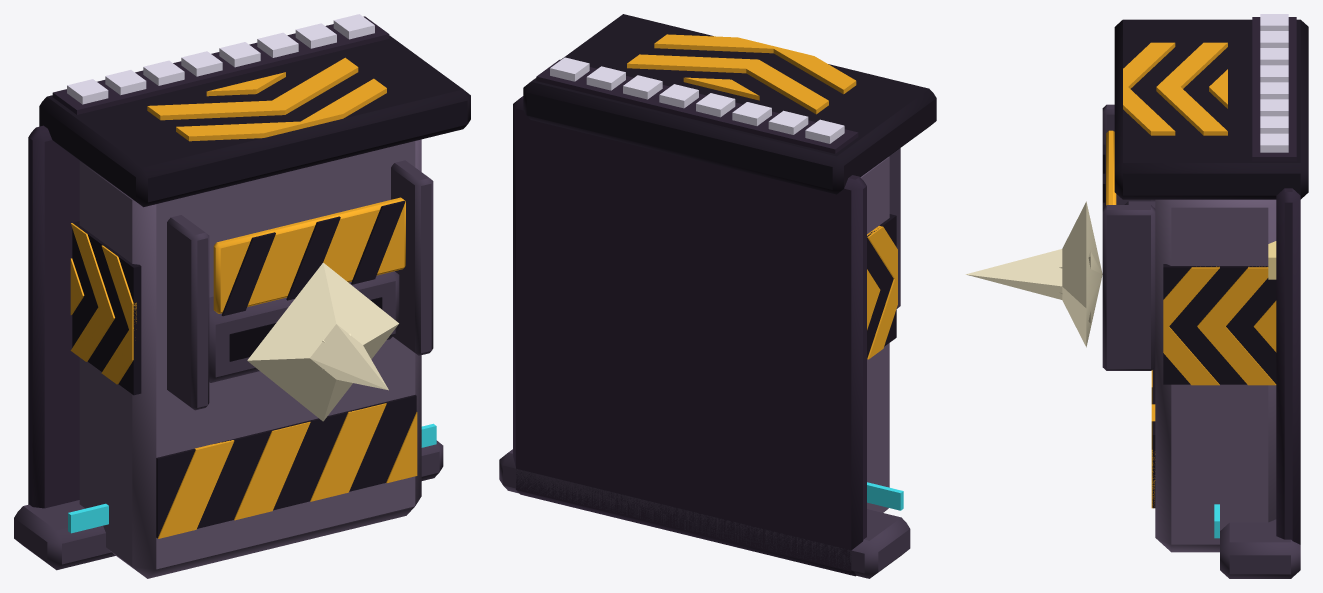
Rendered from trap_dart__lower.glb.
The picture shows the model from 3 angles, left to right: view 1: azimuth 30°, elevation 25°; view 2: azimuth 150°, elevation 25°; view 3: azimuth 270°, elevation 25°; orthographic projection. The views are drawn at different scales.
Parts seen in each view (by area): view 1: Body, Shutter, Flash, Muzzle, Pip_03, Pip_04, Pip_01, Pip_05, Pip_06, Pip_07, Pip_08, Pip_02; view 2: Body, Pip_02, Pip_01, Pip_03, Pip_04, Pip_05, Pip_08, Pip_06, Pip_07; view 3: Body, Flash, Shutter, Pip_08, Pip_03, Pip_04, Pip_05, Pip_06, Pip_07, Pip_01, Pip_02.
Boxes of the visible parts, x1=… form: Body: x1=14, y1=16, x2=470, y2=578; Shutter: x1=213, y1=197, x2=405, y2=316; Flash: x1=247, y1=262, x2=398, y2=421; Muzzle: x1=209, y1=271, x2=399, y2=382; Pip_03: x1=143, y1=60, x2=184, y2=85; Pip_04: x1=181, y1=51, x2=222, y2=76; Pip_01: x1=67, y1=79, x2=108, y2=104; Pip_05: x1=219, y1=42, x2=260, y2=67; Pip_06: x1=257, y1=32, x2=298, y2=57; Pip_07: x1=295, y1=23, x2=336, y2=48; Pip_08: x1=333, y1=14, x2=374, y2=39; Pip_02: x1=105, y1=70, x2=146, y2=95; Body: x1=499, y1=14, x2=936, y2=578; Pip_02: x1=768, y1=110, x2=808, y2=134; Pip_01: x1=805, y1=119, x2=844, y2=143; Pip_03: x1=732, y1=102, x2=771, y2=125; Pip_04: x1=696, y1=93, x2=735, y2=117; Pip_05: x1=659, y1=84, x2=698, y2=108; Pip_08: x1=550, y1=57, x2=589, y2=81; Pip_06: x1=623, y1=75, x2=662, y2=99; Pip_07: x1=586, y1=66, x2=625, y2=90; Body: x1=1102, y1=17, x2=1308, y2=578; Flash: x1=965, y1=201, x2=1102, y2=347; Shutter: x1=1103, y1=130, x2=1116, y2=207; Pip_08: x1=1260, y1=133, x2=1288, y2=152; Pip_03: x1=1260, y1=48, x2=1288, y2=65; Pip_04: x1=1260, y1=65, x2=1288, y2=82; Pip_05: x1=1260, y1=82, x2=1288, y2=99; Pip_06: x1=1260, y1=99, x2=1288, y2=116; Pip_07: x1=1260, y1=116, x2=1288, y2=133; Pip_01: x1=1260, y1=14, x2=1288, y2=30; Pip_02: x1=1260, y1=31, x2=1288, y2=47.
Size of the model in its own units: 0.52 by 0.566 by 0.425.
